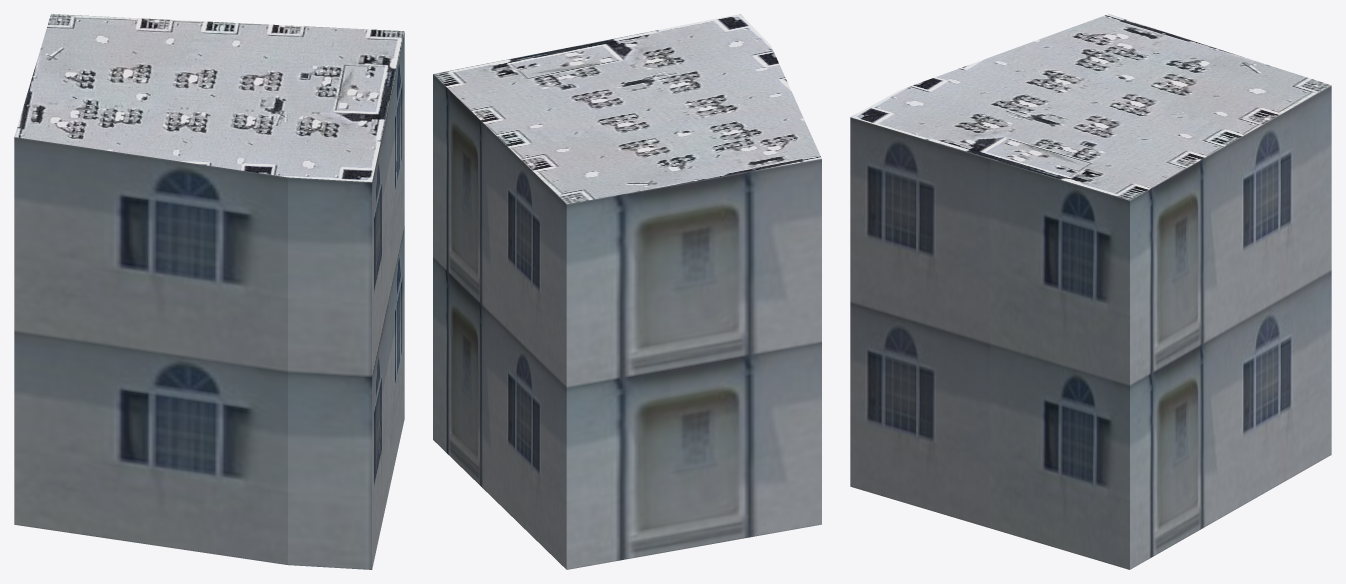
The model's file is ResTex__3320.fbx.
3 views of the same model, side by side, from view 1: azimuth 30°, elevation 25°; view 2: azimuth 150°, elevation 25°; view 3: azimuth 270°, elevation 25° (orthographic). The views are drawn at different scales.
Visible parts, largest first — view 1: CityEngineMaterial_17_m, CityEngineMaterial_4_m; view 2: CityEngineMaterial_17_m, CityEngineMaterial_4_m; view 3: CityEngineMaterial_17_m, CityEngineMaterial_4_m.
Boxes of the visible parts, left/top/right/bottom form: CityEngineMaterial_17_m: left=14, top=32, right=404, bottom=569; CityEngineMaterial_4_m: left=14, top=14, right=404, bottom=182; CityEngineMaterial_17_m: left=433, top=74, right=821, bottom=569; CityEngineMaterial_4_m: left=433, top=14, right=821, bottom=203; CityEngineMaterial_17_m: left=850, top=85, right=1331, bottom=569; CityEngineMaterial_4_m: left=850, top=14, right=1331, bottom=200.
Bounding box in the file's own units: 6.5 × 6 × 7.09.
Materials: 2 (2 with a texture image).
